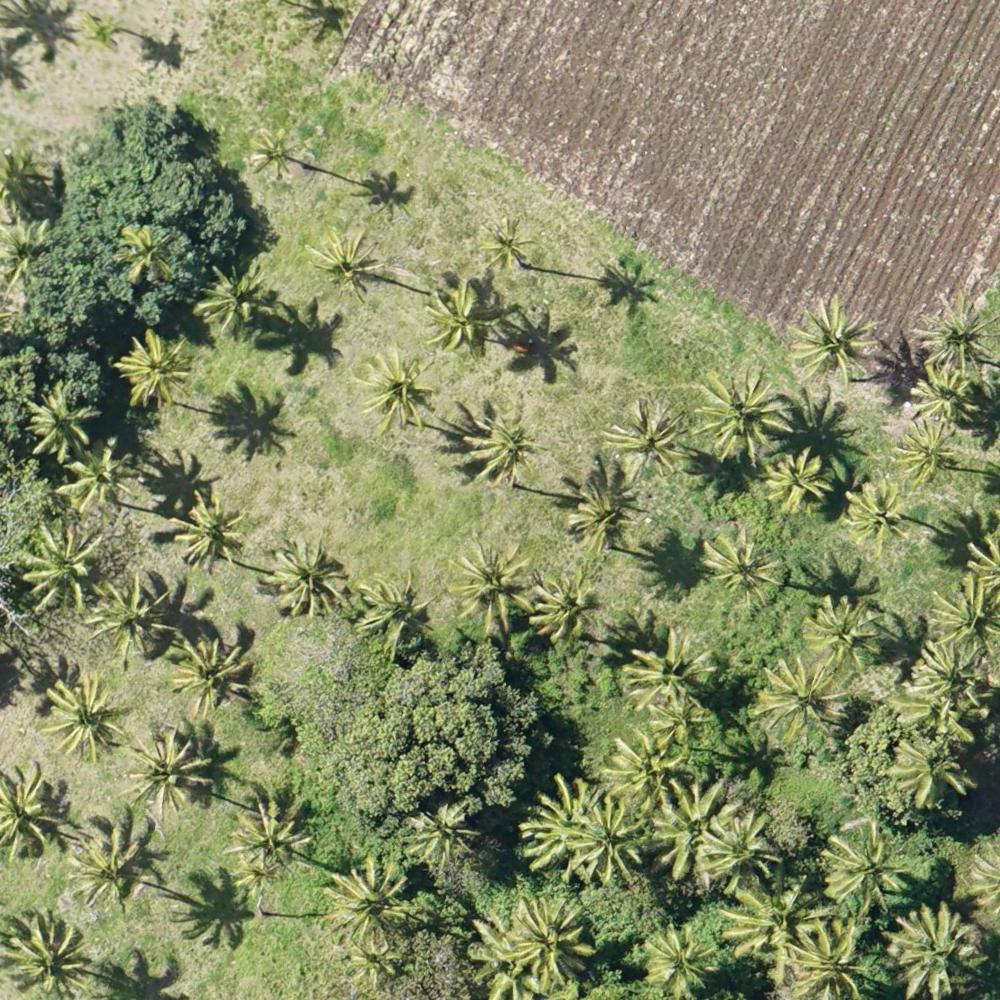not palm: (526, 674, 598, 745)
not plam: (302, 680, 382, 758), (745, 163, 825, 241), (405, 704, 486, 779), (546, 332, 626, 407), (288, 450, 369, 522), (375, 481, 449, 555), (591, 142, 665, 215), (458, 131, 533, 202), (879, 40, 958, 107), (336, 67, 412, 136), (567, 32, 644, 99), (892, 182, 969, 249), (242, 927, 315, 997), (712, 34, 787, 101), (100, 123, 167, 192), (460, 27, 535, 85)
